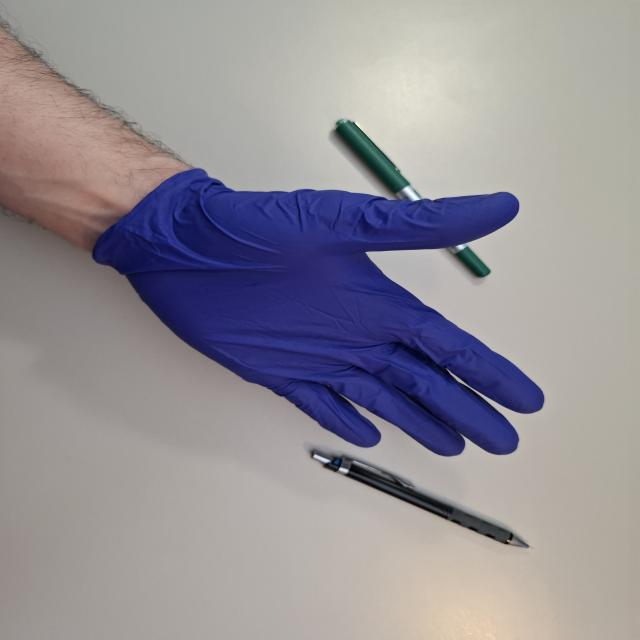glove_on: (89, 165, 552, 460)
